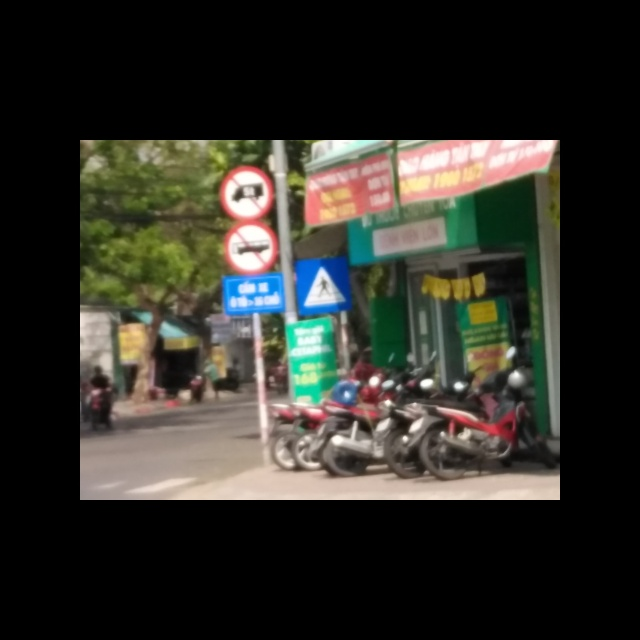Cấm xe tải: (219, 164, 275, 221)
Cấm xe xe khách: (224, 219, 278, 275)
Đường dành cho người đi bộ: (294, 257, 352, 315)
